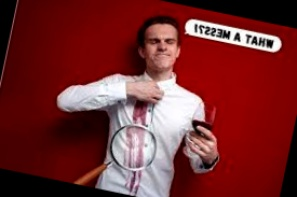wine: (116, 91, 151, 195), (124, 142, 150, 196)
